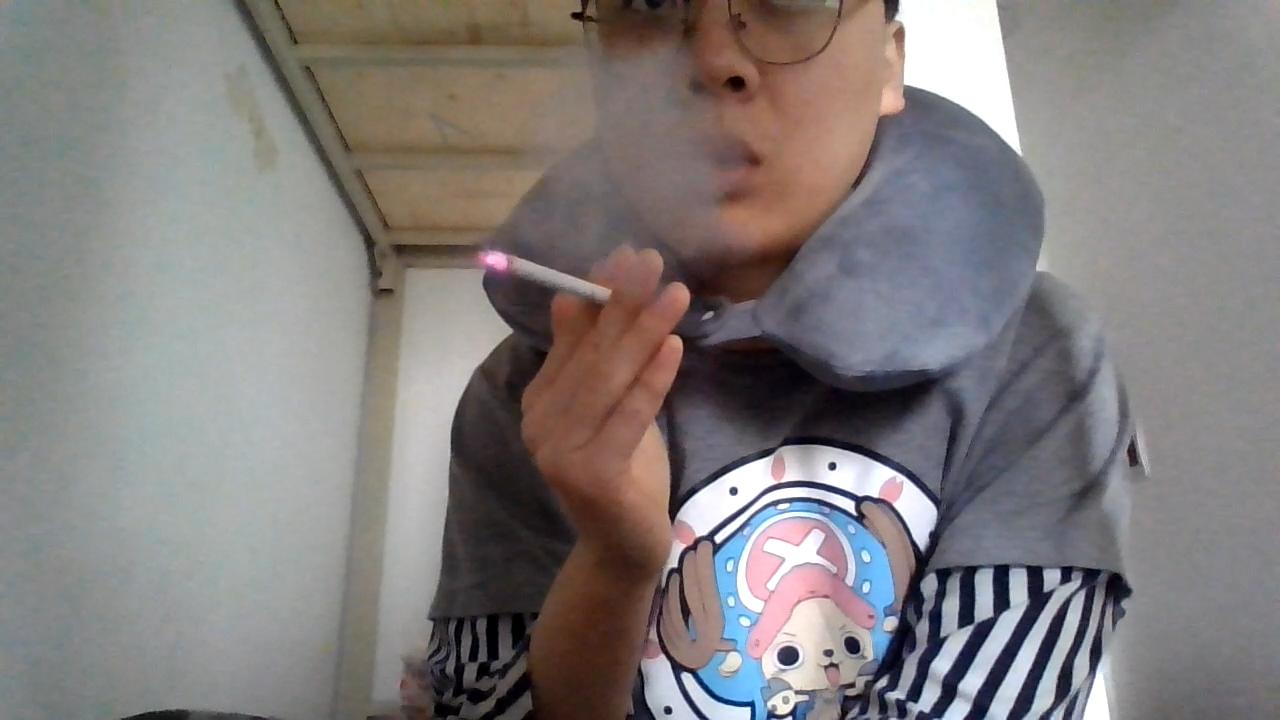yanwu: (528, 47, 727, 258)
